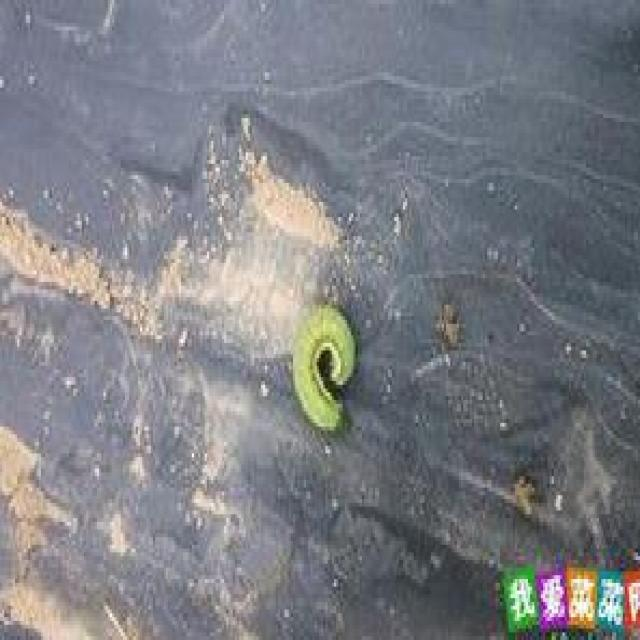BeetArmyWorm-Larva-: (281, 298, 370, 453)
